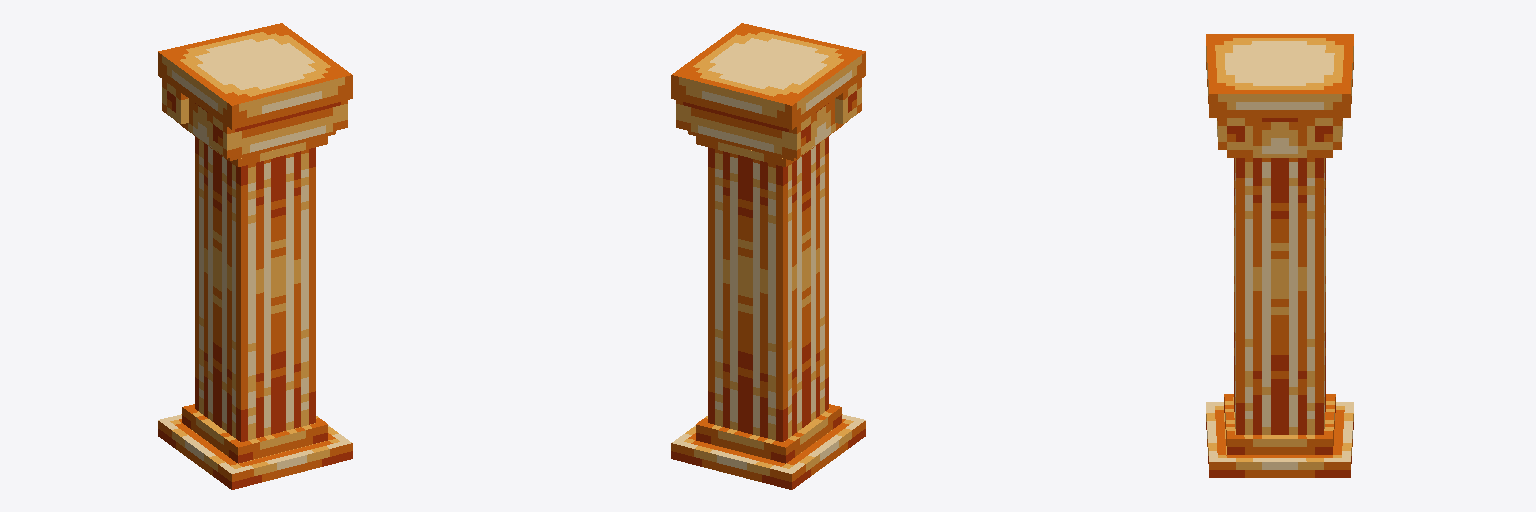
3 renders of one model, left to right at view 1: azimuth 30°, elevation 25°; view 2: azimuth 150°, elevation 25°; view 3: azimuth 270°, elevation 25°, orthographic.
Visible parts, largest first — view 1: cube_Mesh_0; view 2: cube_Mesh_0; view 3: cube_Mesh_0.
Boxes of the visible parts, x1=… form: cube_Mesh_0: x1=158, y1=23, x2=352, y2=489; cube_Mesh_0: x1=671, y1=23, x2=865, y2=489; cube_Mesh_0: x1=1206, y1=34, x2=1353, y2=477.
Bounding box in the file's own units: 0.8 × 2.4 × 0.84.
1 materials, 1 textured.